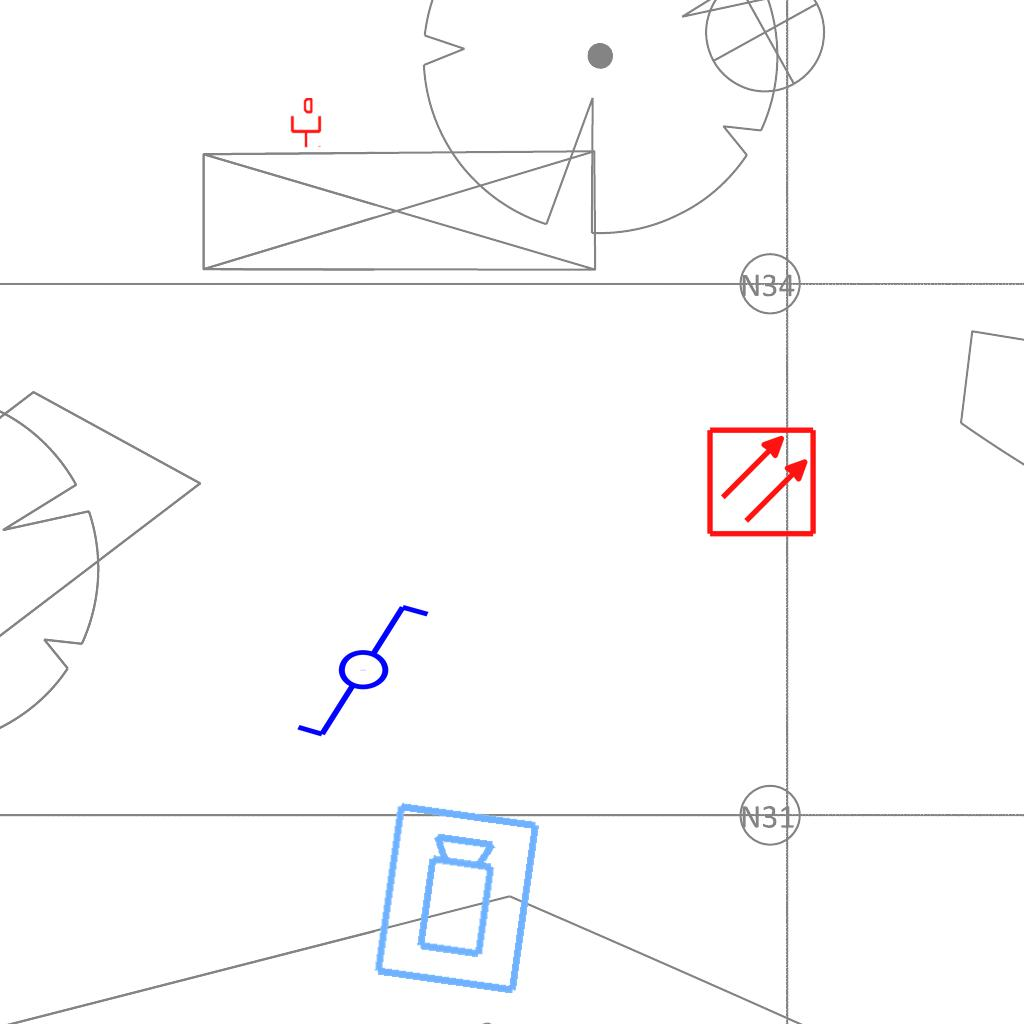Datenanschluss_einfach: (289, 98, 323, 148)
KFO_Kamera_mit_Festobjektiv: (369, 798, 547, 1000)
RMO_Rauchmelder_optischer: (705, 425, 818, 538)
Wechselschalter: (293, 600, 450, 744)
